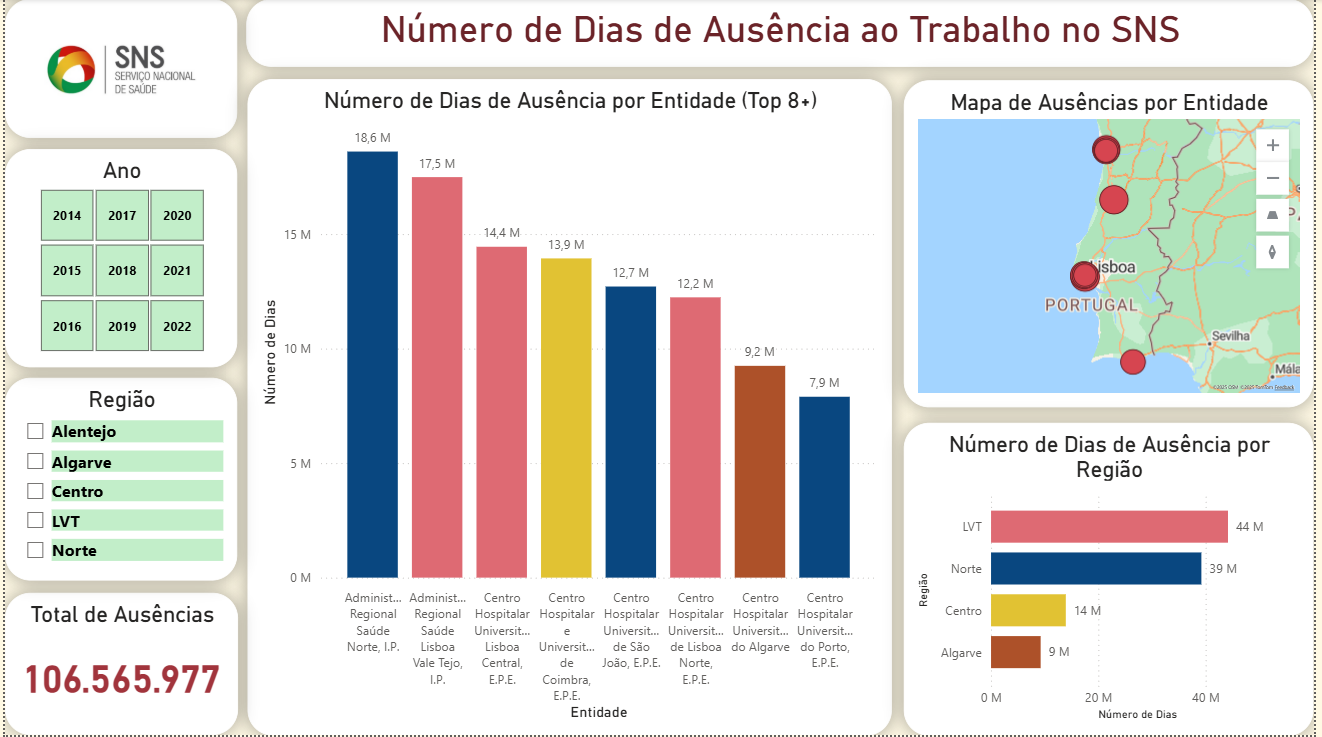

The page's visual inventory and layout, read from the dashboard file:
{"tool":"powerbi","page":{"name":"Dashboard_Top8+","canvas":[1280,720],"ordinal":1},"visuals":[{"type":"textbox","title":"Número de Dias de Ausência ao Trabalho no SNS","box":[236.2,0,1043.8,66.2],"z":0},{"type":"image","box":[0,0,227.5,136.2],"z":1000},{"type":"columnChart","title":"Número de Dias de Ausência por Entidade (Top 8+)","fields":{"Category":["DimEntidade.Entidade"],"Y":["Sum(FactNumDiasAusência.NúmDiasAusência)"]},"box":[237,78,630,642],"z":2000},{"type":"azureMap","title":"Mapa de Ausências por Entidade","fields":{"Y":["DimEntidade.Latitude"],"X":["DimEntidade.Longitude"],"Size":["Sum(FactNumDiasAusência.NúmDiasAusência)"]},"box":[879,79,401,320],"z":3000},{"type":"card","title":"Total de Ausências","fields":{"Values":["Sum(FactNumDiasAusência.NúmDiasAusência)"]},"box":[0,581,228,139],"z":4000},{"type":"slicer","title":"Região","fields":{"Values":["DimRegião.Região"]},"box":[0,370,227.5,198.8],"z":5000},{"type":"slicer","title":"Ano","fields":{"Values":["DimTempo.Ano"]},"box":[0,146.2,227.5,213.8],"z":6000},{"type":"barChart","title":"Número de Dias de Ausência por Região","fields":{"Category":["DimRegião.Região"],"Y":["Sum(FactNumDiasAusência.NúmDiasAusência)"]},"box":[879,414,401,306],"z":7000}]}

Visuals, with their boxes in screenshot pixels (x1, y1, x2, y2), scaled from the page's 1280x720 canvas onto the 1322x737 screenshot:
"Número de Dias de Ausência ao Trabalho no SNS" textbox: {"x1": 244, "y1": 0, "x2": 1321, "y2": 68}
image: {"x1": 0, "y1": 0, "x2": 235, "y2": 139}
"Número de Dias de Ausência por Entidade (Top 8+)" columnChart: {"x1": 245, "y1": 80, "x2": 895, "y2": 736}
"Mapa de Ausências por Entidade" azureMap: {"x1": 908, "y1": 81, "x2": 1321, "y2": 408}
"Total de Ausências" card: {"x1": 0, "y1": 595, "x2": 235, "y2": 736}
"Região" slicer: {"x1": 0, "y1": 379, "x2": 235, "y2": 582}
"Ano" slicer: {"x1": 0, "y1": 150, "x2": 235, "y2": 368}
"Número de Dias de Ausência por Região" barChart: {"x1": 908, "y1": 424, "x2": 1321, "y2": 736}
